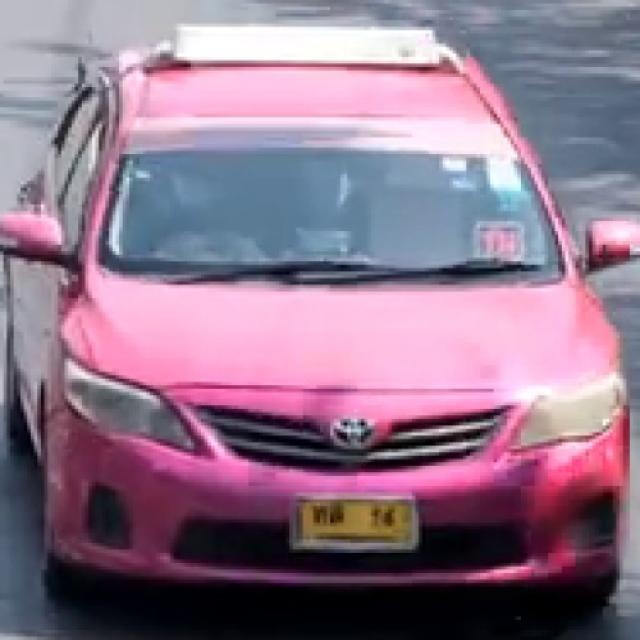plate: (298, 499, 413, 546)
